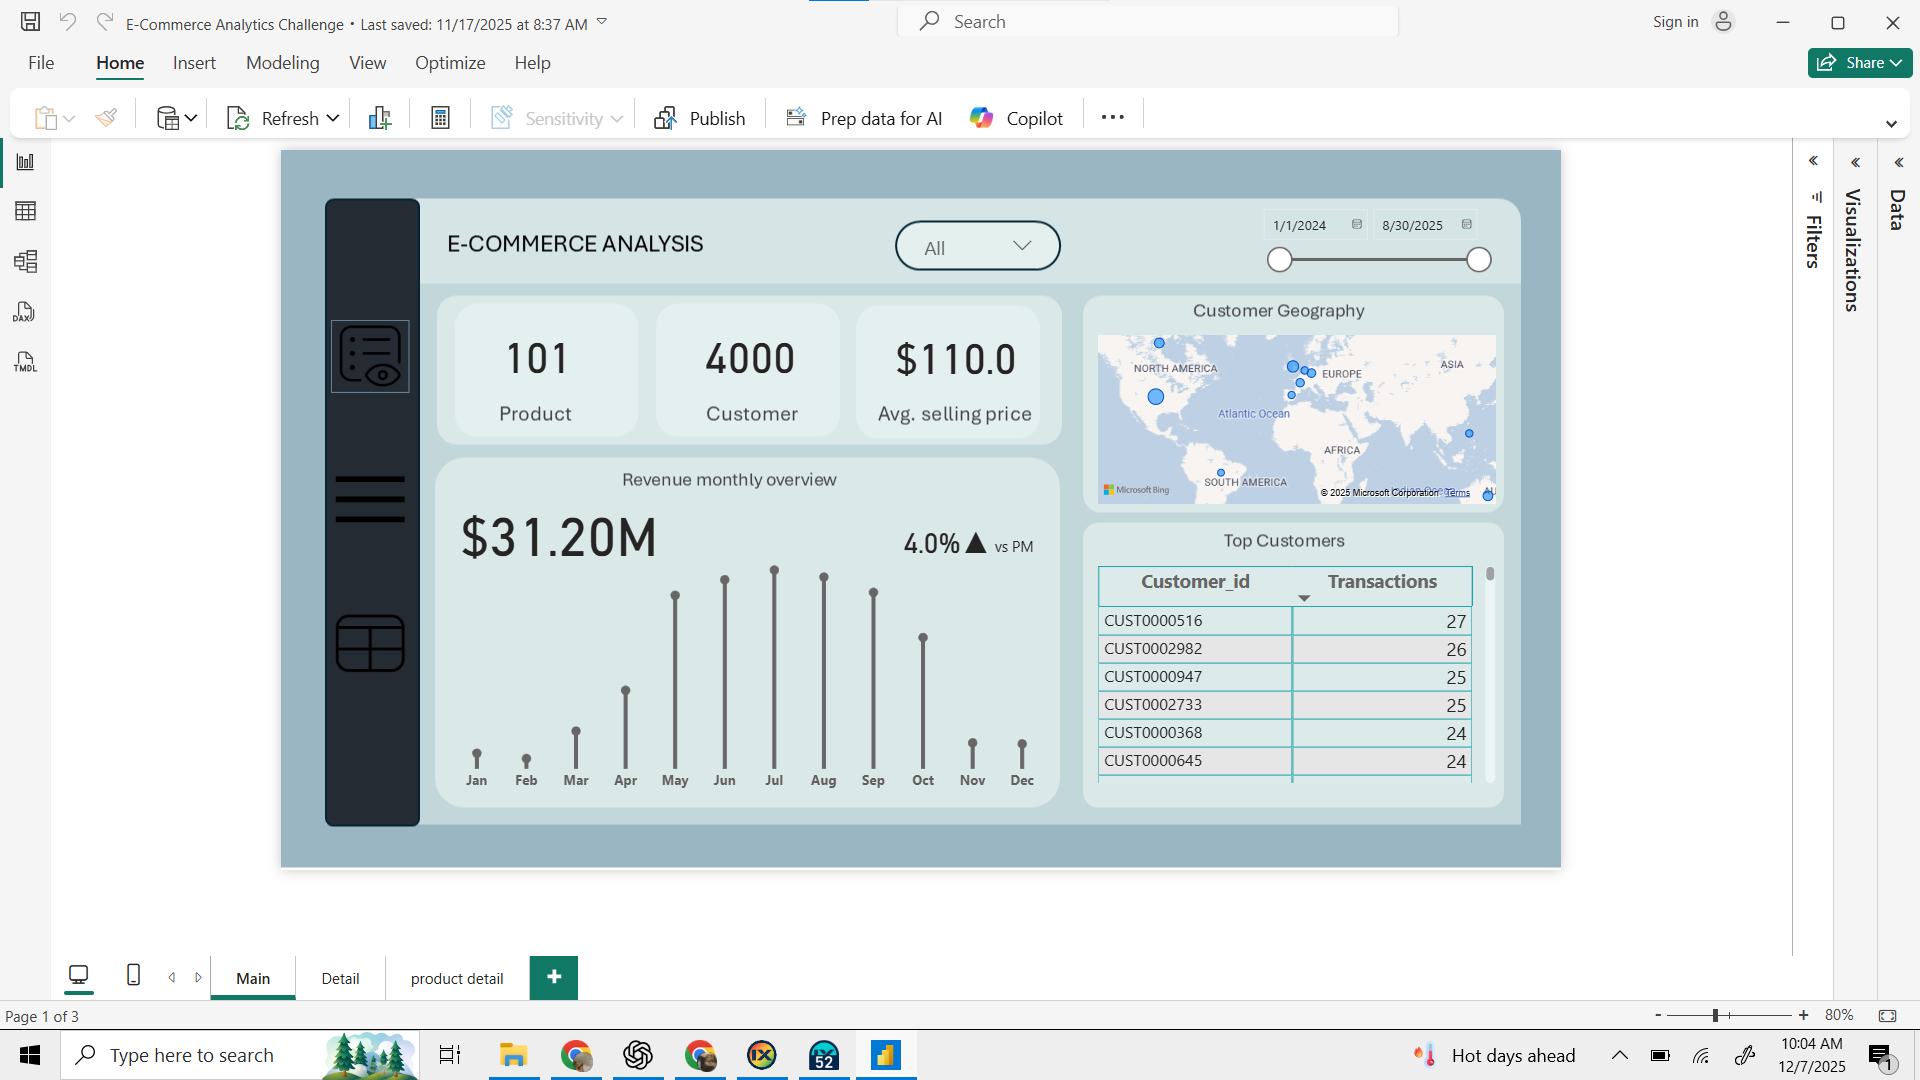

This screenshot's page, from the dashboard's own definition file:
{"tool":"powerbi","page":{"name":"Main ","canvas":[1280,720],"ordinal":0},"visuals":[{"type":"card","fields":{"Values":["All Measures.Total Product"]},"box":[213.8,170,85,67.5],"z":0},{"type":"card","fields":{"Values":["All Measures.Total Customers"]},"box":[417.5,170,103.8,67.5],"z":1000},{"type":"card","fields":{"Values":["All Measures.Avg Selling Price"]},"box":[598.8,167.5,152.5,75],"z":2000},{"type":"slicer","fields":{"Values":["Customer calendar.Month"]},"box":[627.5,68.8,138.8,45],"z":3000},{"type":"slicer","fields":{"Values":["Customer calendar.Date"]},"box":[970,48.8,248.8,85],"z":4000},{"type":"lineChart","fields":{"Category":["Event calendar.Month"],"Y":["All Measures.Net Revenue Usd"]},"box":[171.2,368.8,595,281.2],"z":5000},{"type":"card","fields":{"Values":["All Measures.Net Revenue Usd"]},"box":[171.2,308.8,213.8,143.8],"z":6000},{"type":"card","fields":{"Values":["All Measures.MoM"]},"box":[581.2,360,170,63.8],"z":7000},{"type":"map","fields":{"Category":["Customers.country"],"Size":["All Measures.Total Customers"]},"box":[812.2,180.4,406.7,179.2],"z":8000},{"type":"pivotTable","fields":{"Rows":["loyal customers.customer_id"],"Values":["Sum(loyal customers.count of transaction)"]},"box":[812.5,411.2,406.2,226.2],"z":9000},{"type":"textbox","box":[708.8,381.2,57.5,31.2],"z":10000},{"type":"image","box":[49.6,169.5,78.7,72.6],"z":11000},{"type":"image","box":[49.6,303.8,78.7,90.8],"z":12000},{"type":"image","box":[50,441.2,78.8,103.8],"z":12001}]}

Visuals, with their boxes on the page's 1280x720 design canvas (x1, y1, x2, y2). These are canvas units, not pixel positions in the 1920x1080 screenshot, which may show the page scaled, cropped or inside an application window:
card - All Measures.Total Product: {"x1": 214, "y1": 170, "x2": 299, "y2": 238}
card - All Measures.Total Customers: {"x1": 418, "y1": 170, "x2": 521, "y2": 238}
card - All Measures.Avg Selling Price: {"x1": 599, "y1": 168, "x2": 751, "y2": 242}
slicer - Customer calendar.Month: {"x1": 628, "y1": 69, "x2": 766, "y2": 114}
slicer - Customer calendar.Date: {"x1": 970, "y1": 49, "x2": 1219, "y2": 134}
lineChart - Event calendar.Month x All Measures.Net Revenue Usd: {"x1": 171, "y1": 369, "x2": 766, "y2": 650}
card - All Measures.Net Revenue Usd: {"x1": 171, "y1": 309, "x2": 385, "y2": 453}
card - All Measures.MoM: {"x1": 581, "y1": 360, "x2": 751, "y2": 424}
map - Customers.country x All Measures.Total Customers: {"x1": 812, "y1": 180, "x2": 1219, "y2": 360}
pivotTable - loyal customers.customer_id x Sum(loyal customers.count of transaction): {"x1": 812, "y1": 411, "x2": 1219, "y2": 637}
textbox: {"x1": 709, "y1": 381, "x2": 766, "y2": 412}
image: {"x1": 50, "y1": 170, "x2": 128, "y2": 242}
image: {"x1": 50, "y1": 304, "x2": 128, "y2": 395}
image: {"x1": 50, "y1": 441, "x2": 129, "y2": 545}
